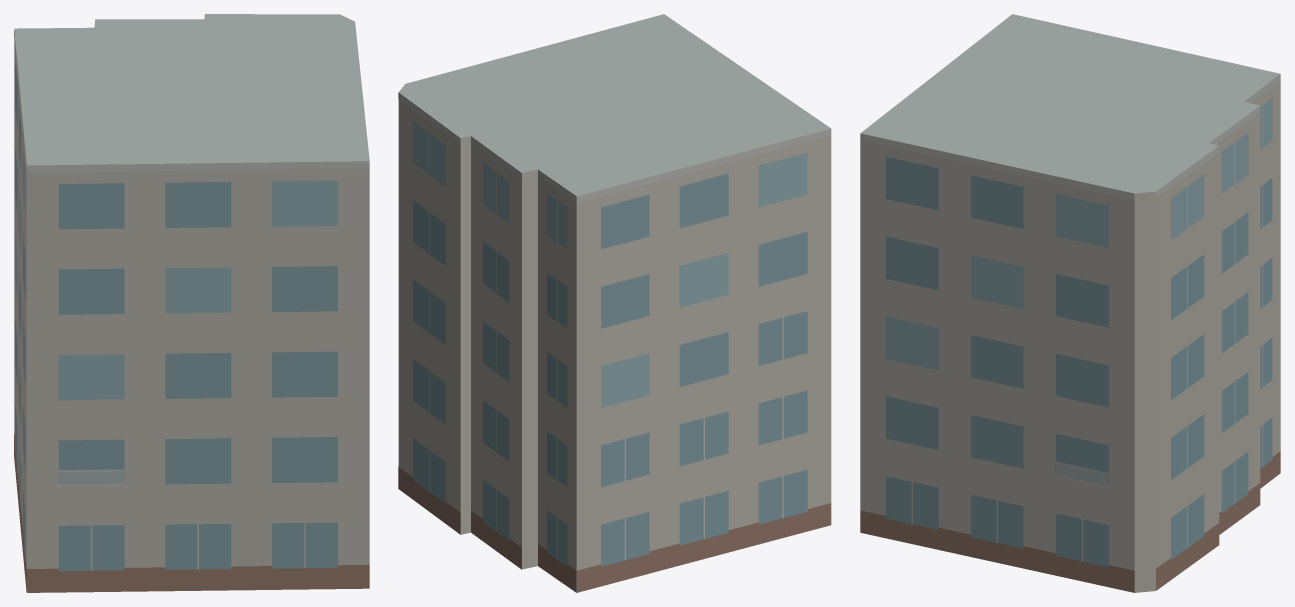
File: survey-upis-32880349.glb
The picture shows the model from 3 angles, left to right: view 1: azimuth 30°, elevation 25°; view 2: azimuth 150°, elevation 25°; view 3: azimuth 270°, elevation 25°; orthographic projection. The views are drawn at different scales.
Visible parts, largest first — view 1: survey-upis-32880349.tmp; view 2: survey-upis-32880349.tmp; view 3: survey-upis-32880349.tmp.
Part boxes in pixels (bbox=[...]): survey-upis-32880349.tmp: bbox=[14, 14, 369, 592]; survey-upis-32880349.tmp: bbox=[398, 14, 831, 592]; survey-upis-32880349.tmp: bbox=[860, 14, 1280, 592].
Bounding box in the file's own units: 13.89 × 14.4 × 13.74.
